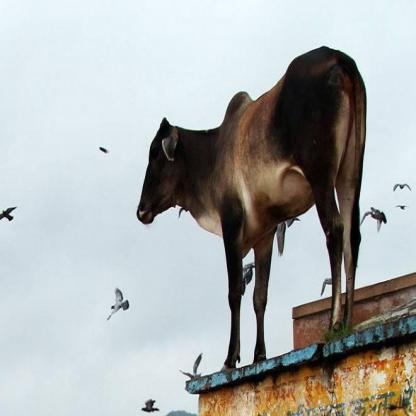cow: (136, 46, 366, 370)
